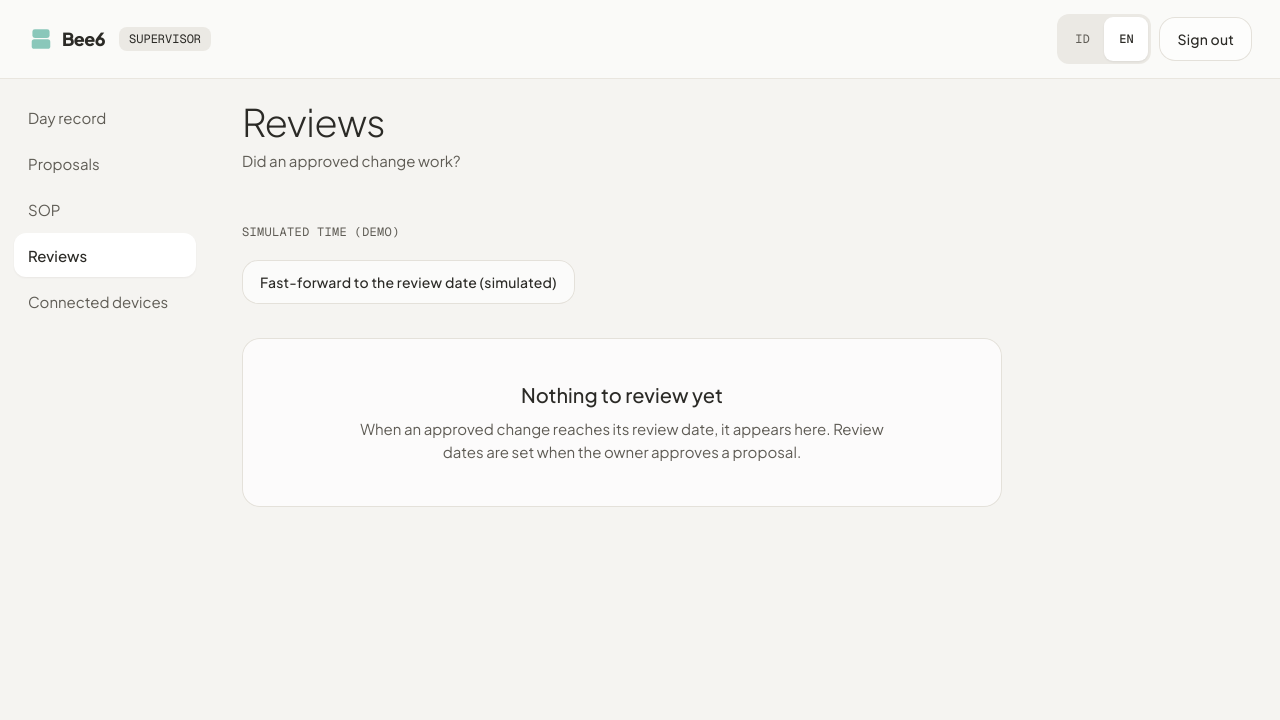
Test: ReviewsApp: fast-forward (demo only) › any other failure shows the generic banner and keeps the button
Click the button "Fast-forward to the review date (simulated)": (408, 282) [242,260,575,304]
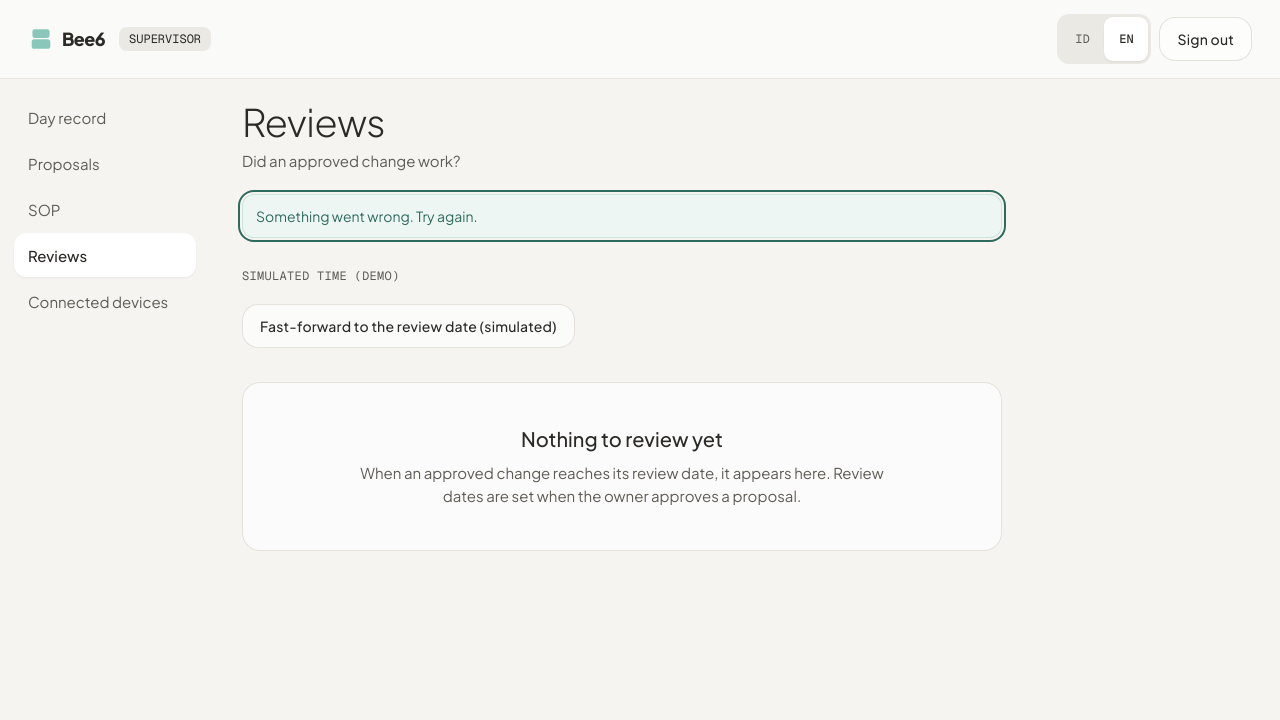
Expected: the button "Fast-forward to the review date (simulated)" is enabled, [242,304,575,348]
Now the text "Something went wrong. Try again." is shown, box [242,194,1002,238]
